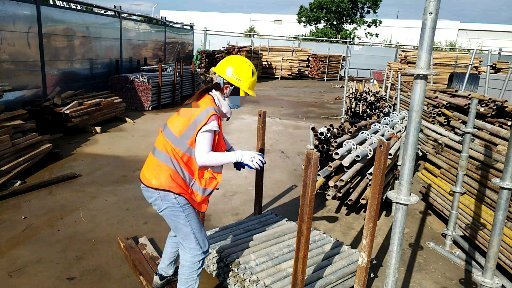helmet: (207, 53, 258, 97)
person: (139, 53, 273, 288)
rebar: (404, 42, 512, 260)
scaffold: (209, 217, 360, 288), (318, 111, 409, 216)
vest: (140, 89, 229, 214)
wood: (265, 45, 309, 77)
